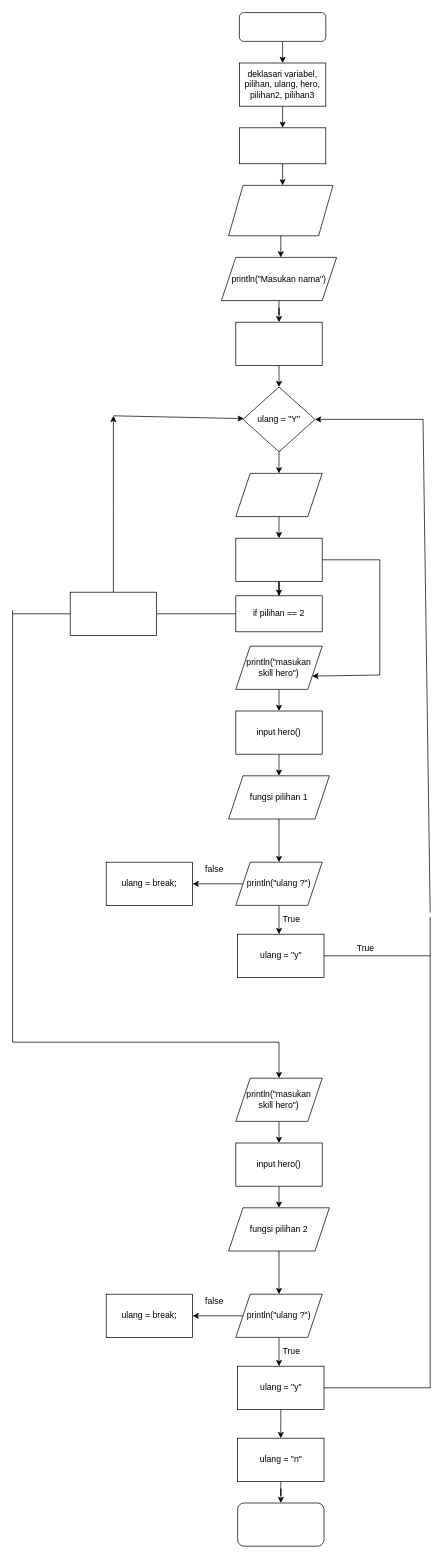
Image size: 444x1559. Some labels were removed from this diagram. Each missing label, with the centre of its shape:
if pilihan != 1 / 2 continue: [113,613]
if pilihan == 1: [278,559]
input nama(): [278,343]
Mulai: [282,26]
print("Masukan pilihan 1"): [278,495]
println("Arena of buddhi"): [280,210]
Scanner input: [282,145]
selesai: [280,1524]
